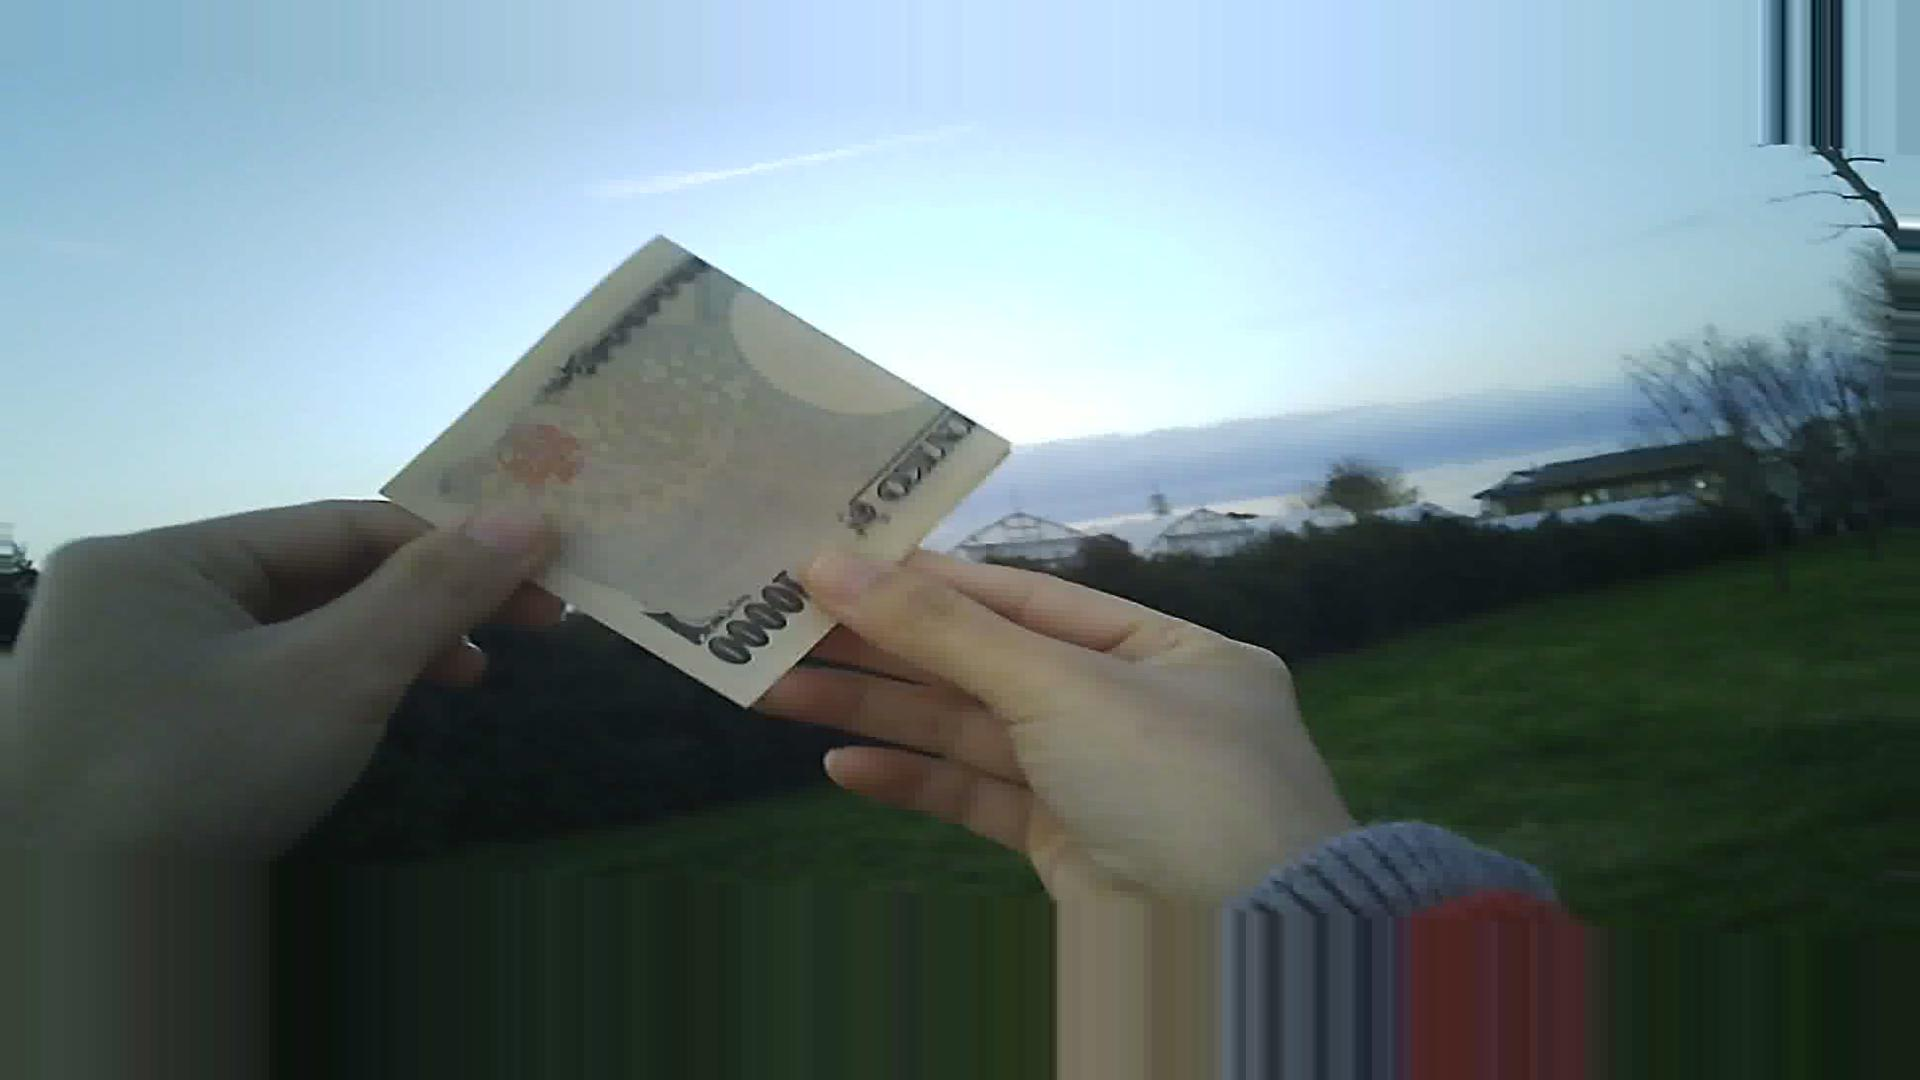10,000 Yen: (393, 211, 996, 694)
